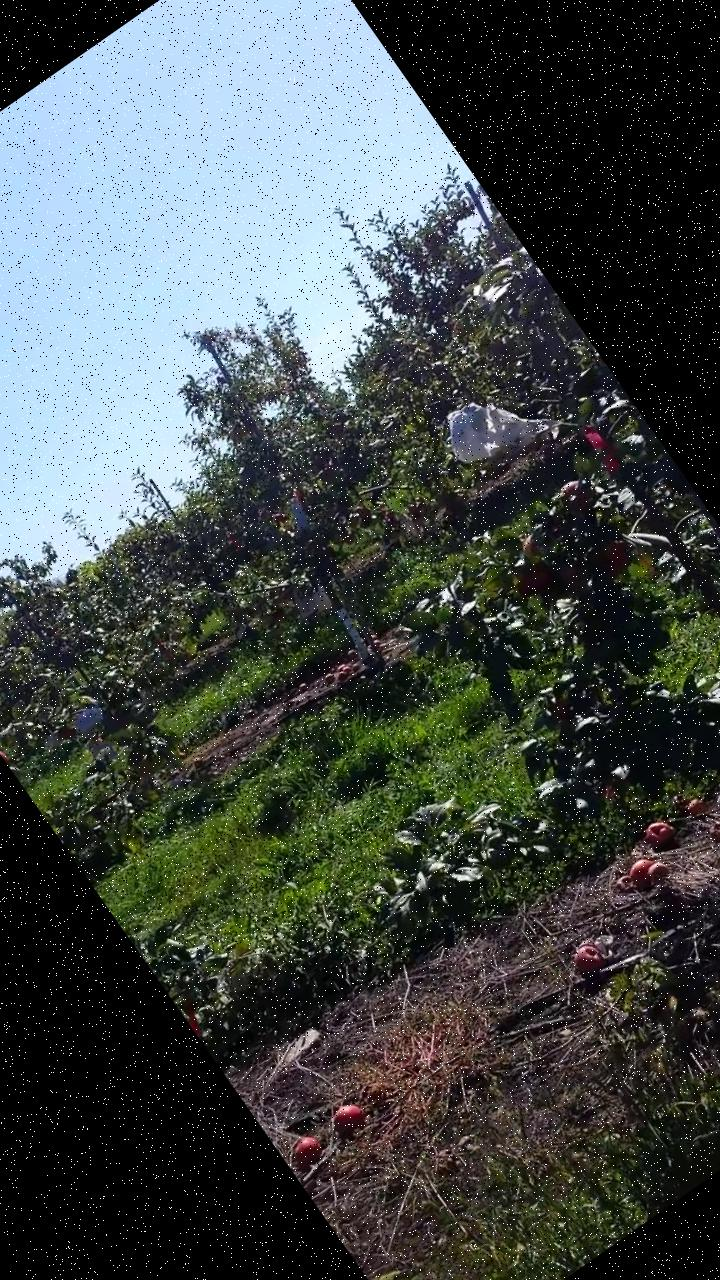Apple: (507, 554, 560, 608), (596, 536, 638, 580), (556, 476, 594, 516), (556, 556, 588, 590), (514, 530, 546, 563), (543, 692, 570, 722)
